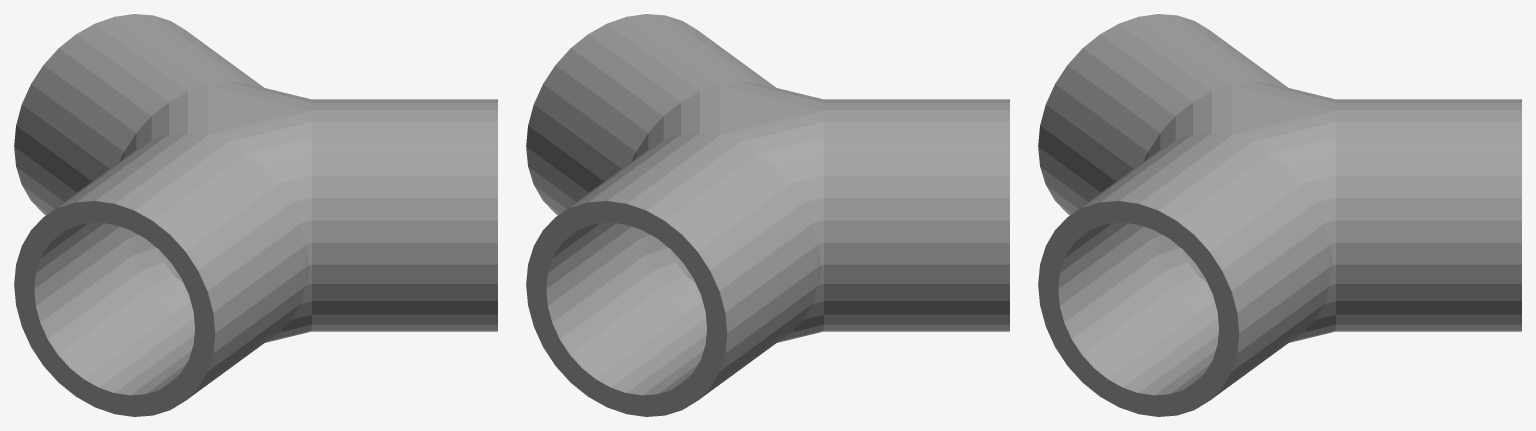
Rendered from TubeRoller.obj.
3 views of the same model, side by side, from view 1: azimuth 30°, elevation 25°; view 2: azimuth 150°, elevation 25°; view 3: azimuth 270°, elevation 25° (orthographic).
Parts seen in each view (by area): view 1: TubeStraight.002_Cylinder.007; view 2: TubeStraight.002_Cylinder.007; view 3: TubeStraight.002_Cylinder.007.
Part boxes in pixels (x1,y1,x2,y2): TubeStraight.002_Cylinder.007: (14,14,497,416); TubeStraight.002_Cylinder.007: (526,14,1009,416); TubeStraight.002_Cylinder.007: (1038,14,1521,416).
Bounding box in the file's own units: 24.05 × 10 × 20.83.
